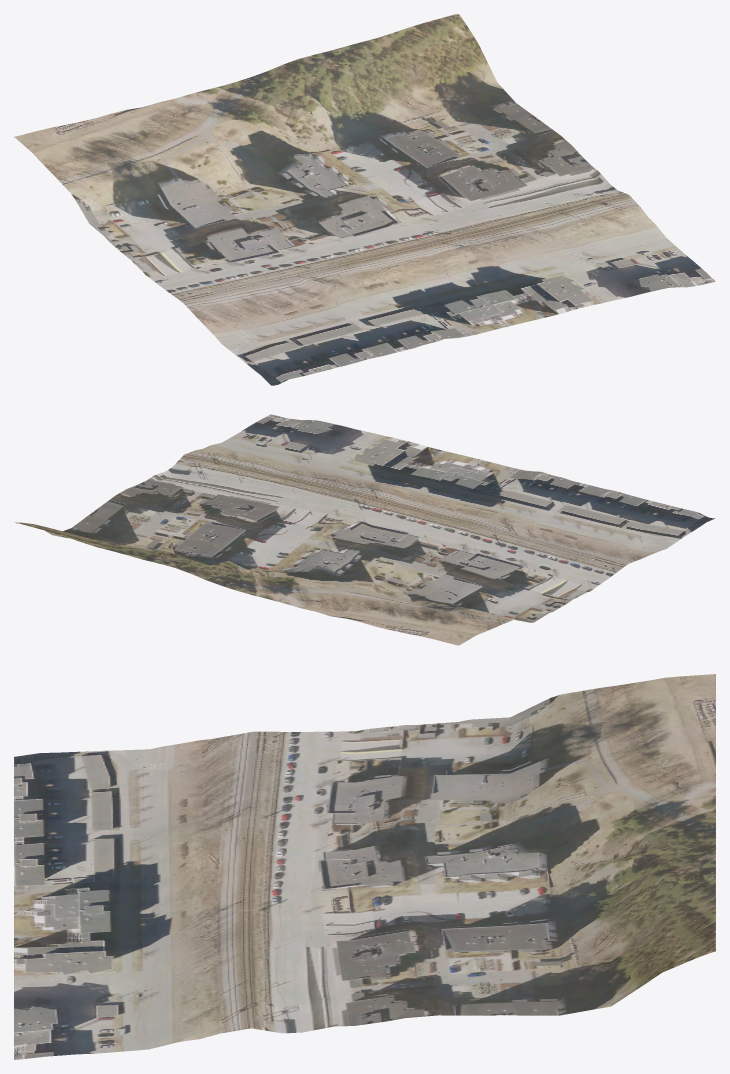
Rendered from CM_Terrain_24488615_6820204.fbx.
3 views of the same model, one above another, from view 1: azimuth 30°, elevation 25°; view 2: azimuth 150°, elevation 25°; view 3: azimuth 270°, elevation 25° (orthographic). The views are drawn at different scales.
Visible parts, largest first — view 1: CM_Terrain_24488615_6820204_LOD0; view 2: CM_Terrain_24488615_6820204_LOD0; view 3: CM_Terrain_24488615_6820204_LOD0.
Boxes of the visible parts, x1,y1,x2,y2 form: CM_Terrain_24488615_6820204_LOD0: (14, 14, 715, 385); CM_Terrain_24488615_6820204_LOD0: (15, 414, 714, 645); CM_Terrain_24488615_6820204_LOD0: (14, 674, 715, 1059).
Size of what is drawn, in the model's own units: 205 by 35.24 by 205.
